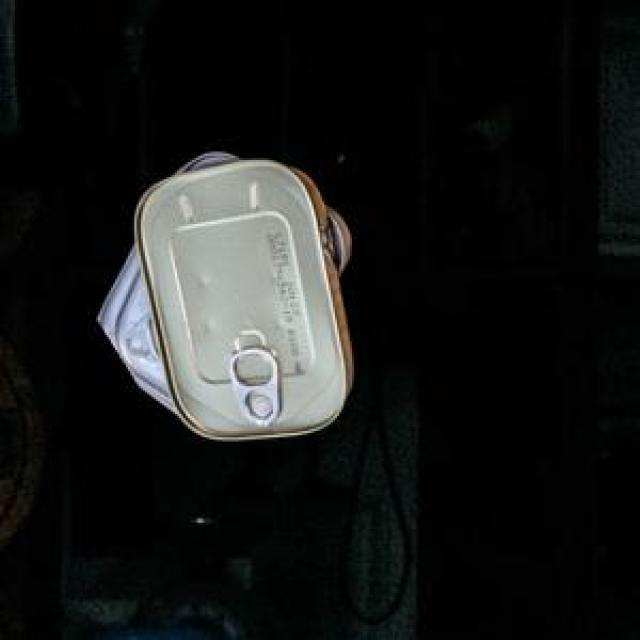logam: (95, 150, 349, 436)
